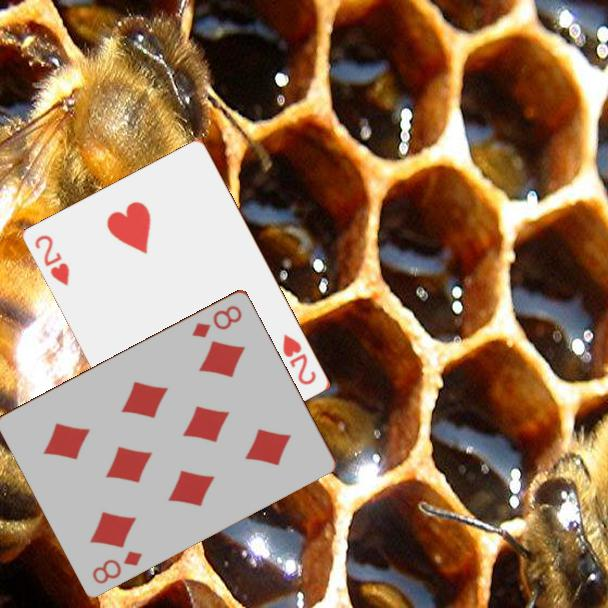d08: (188, 301, 245, 340), (89, 547, 146, 586)
h02: (31, 231, 73, 289), (280, 330, 320, 388)
